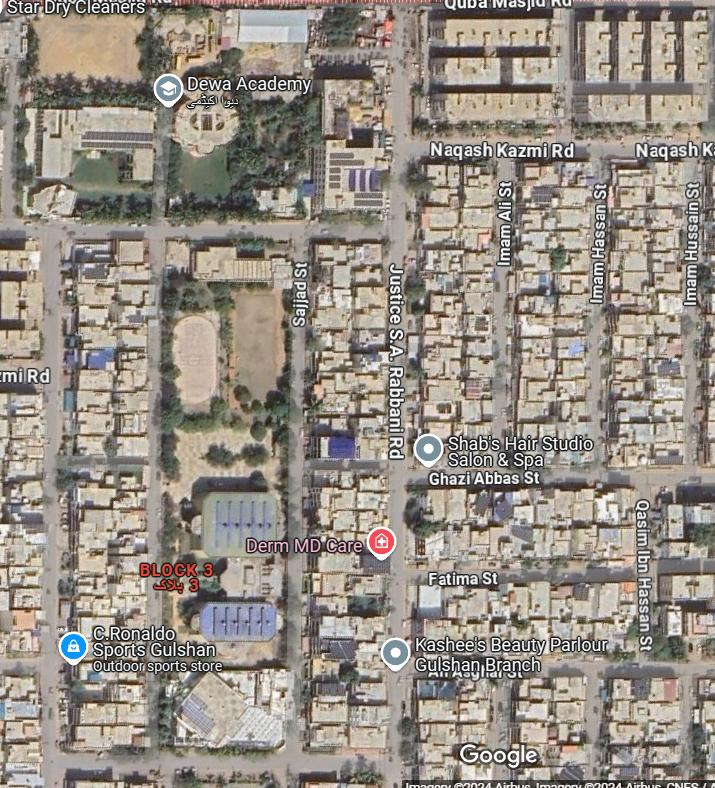Buildings: (25, 12, 383, 220), (163, 240, 286, 742), (412, 489, 643, 659), (416, 16, 704, 136), (415, 674, 679, 781), (605, 154, 687, 451), (302, 481, 386, 753), (65, 474, 146, 749), (416, 162, 496, 433), (517, 160, 591, 427), (305, 236, 386, 465), (62, 242, 146, 453)
